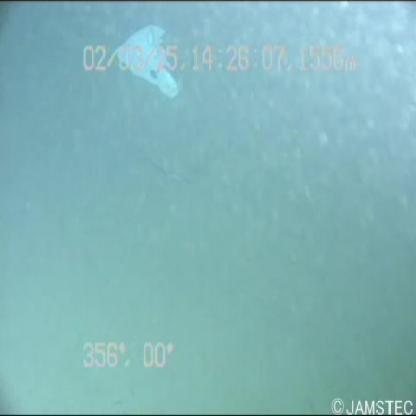Rác: (104, 21, 188, 105)
